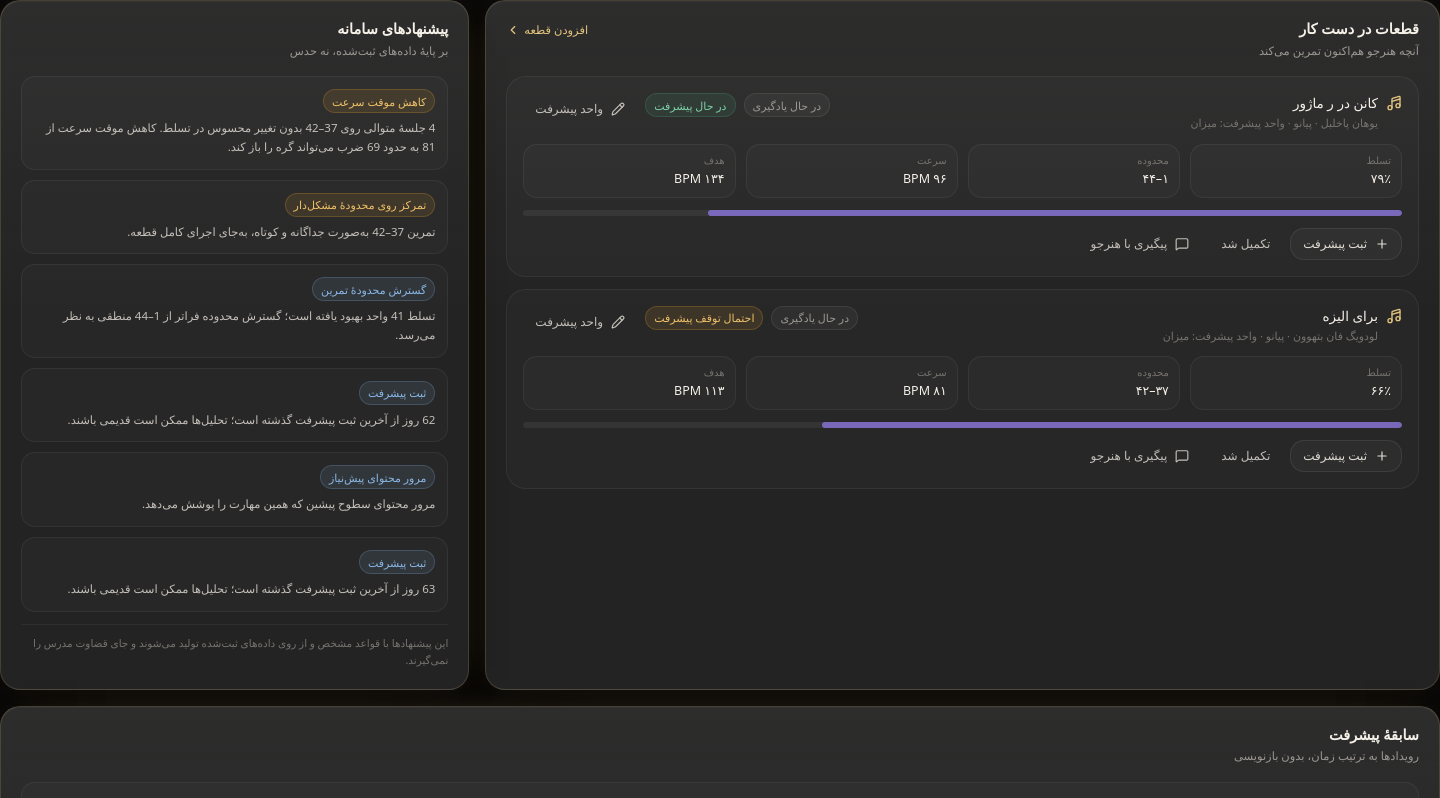
teacher view › rejects an implausible tempo
Click the button "ثبت پیشرفت" below "یوهان پاخلبل" at (1346, 244), box x1=1290 y1=228 x2=1402 y2=260
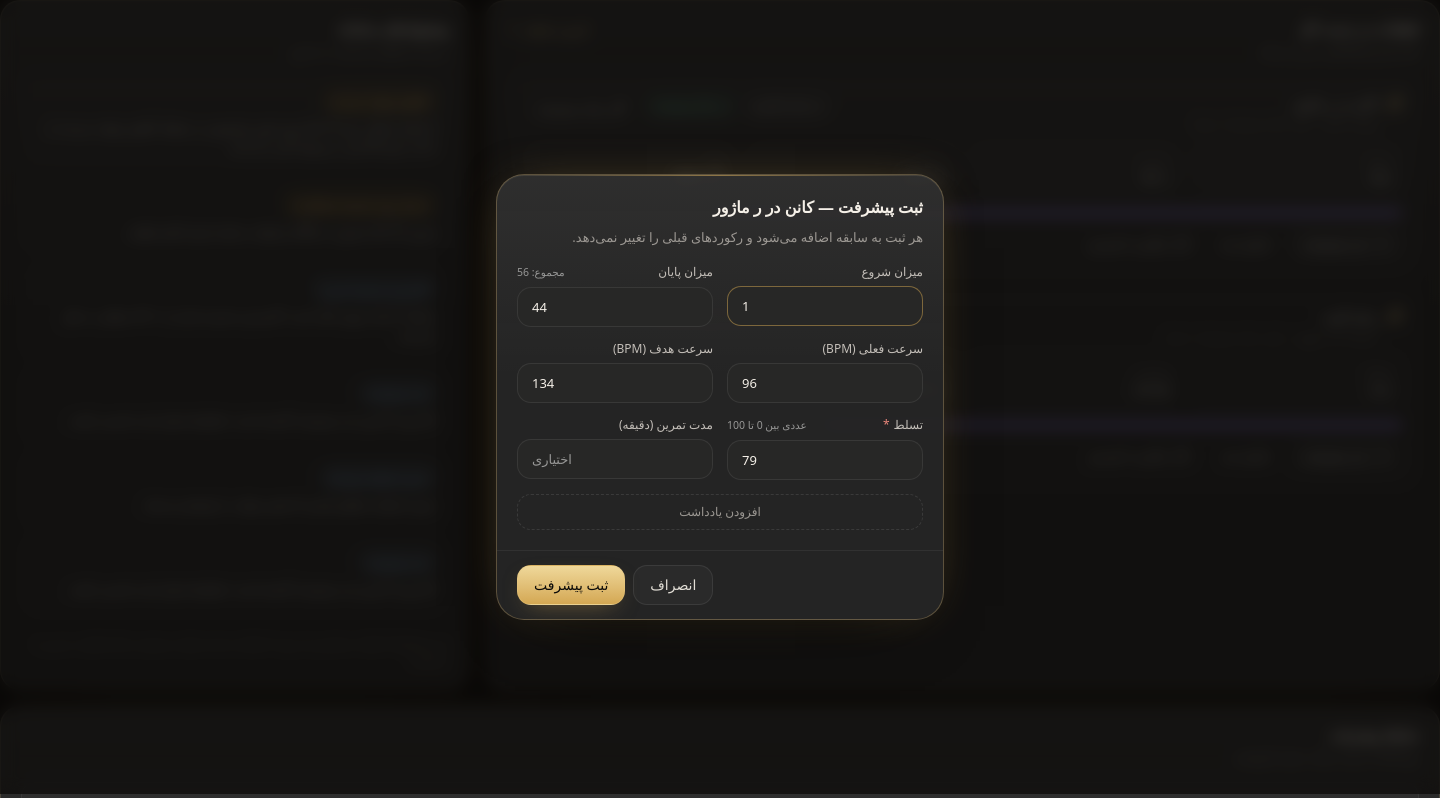
Replace the text in the field labelled "تسلط* عددی بین 0 تا 100" with "60" at (825, 460), box x1=727 y1=440 x2=923 y2=480
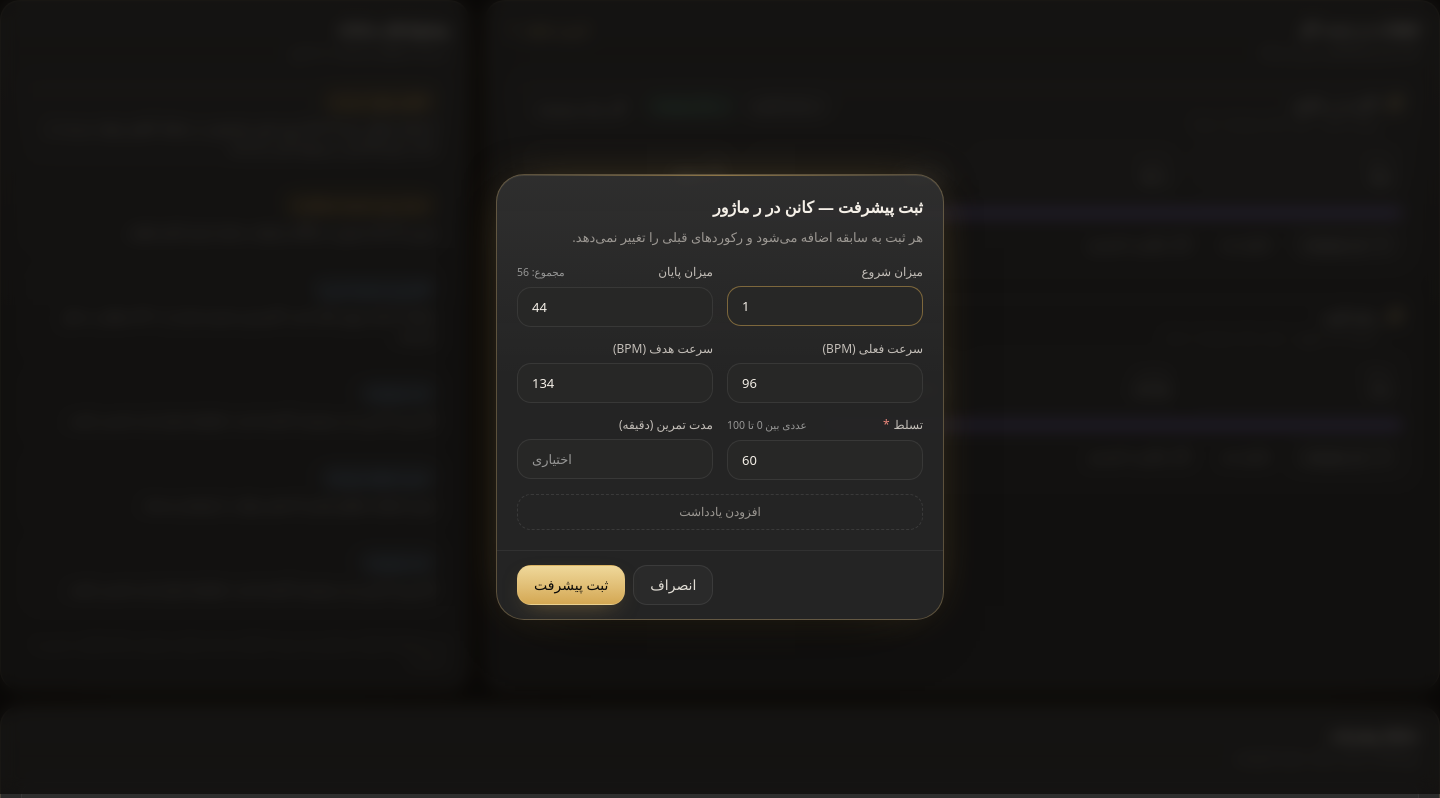
Replace the text in the field labelled "سرعت فعلی (BPM)" with "820" at (825, 383), box x1=727 y1=363 x2=923 y2=403
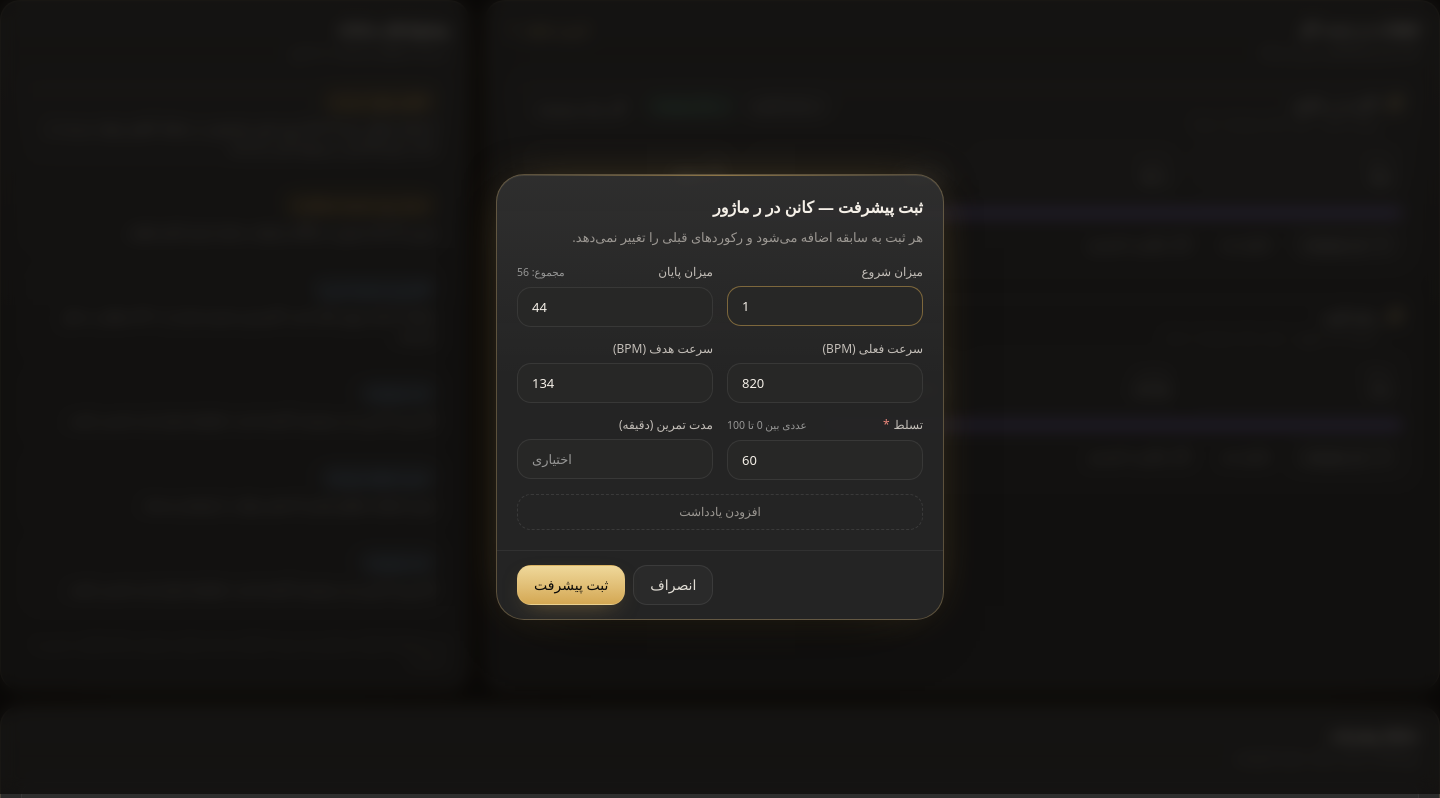
Click the button "ثبت پیشرفت" at (571, 585), box x1=517 y1=565 x2=625 y2=605
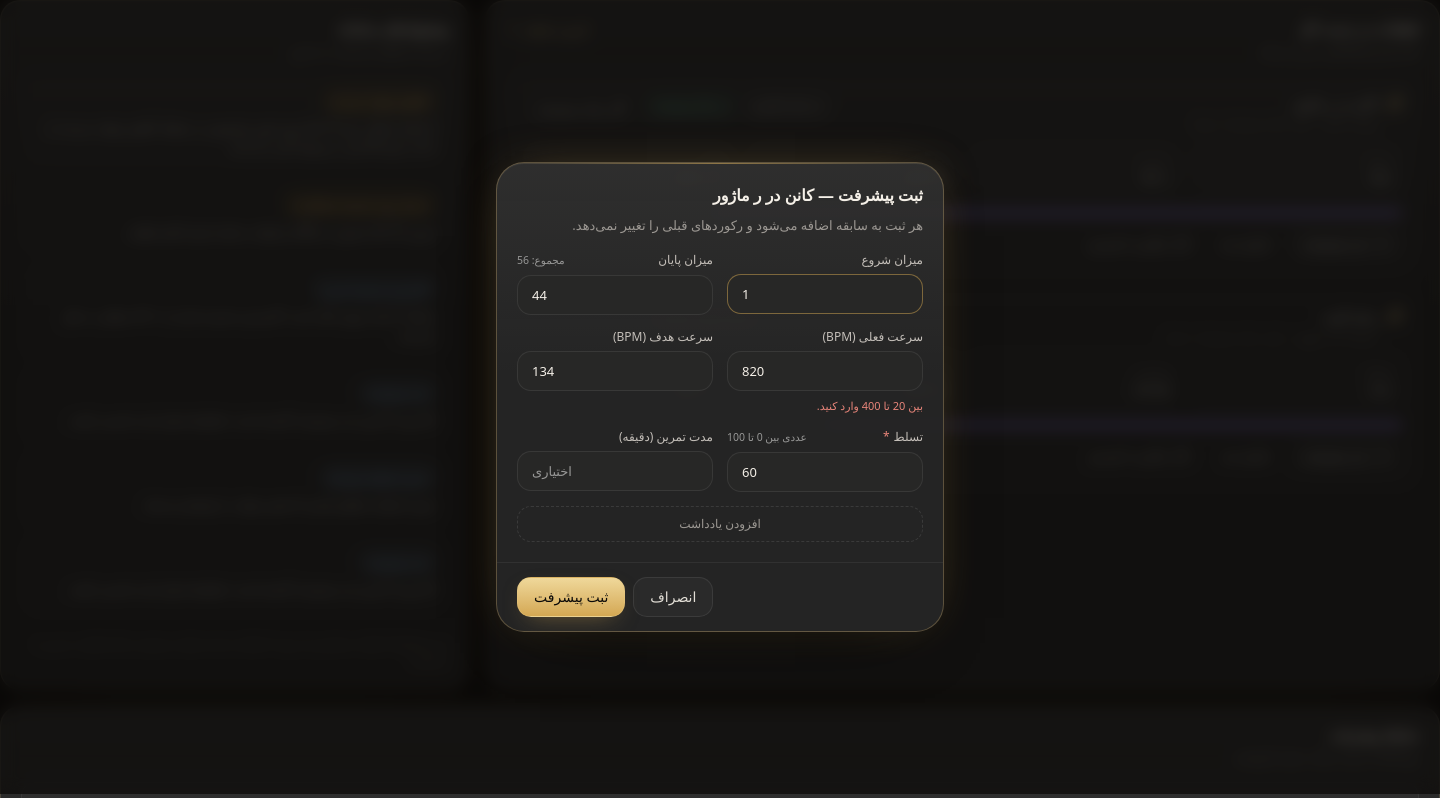
Result: the dialog is shown
Result: the text "بین 20 تا 400 وارد کنید." is shown at x1=817 y1=398 x2=923 y2=413
